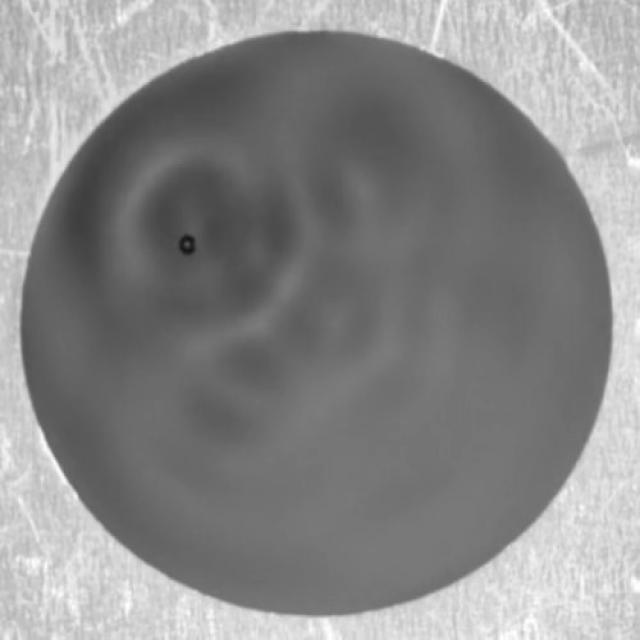droplet: (180, 234, 197, 254)
